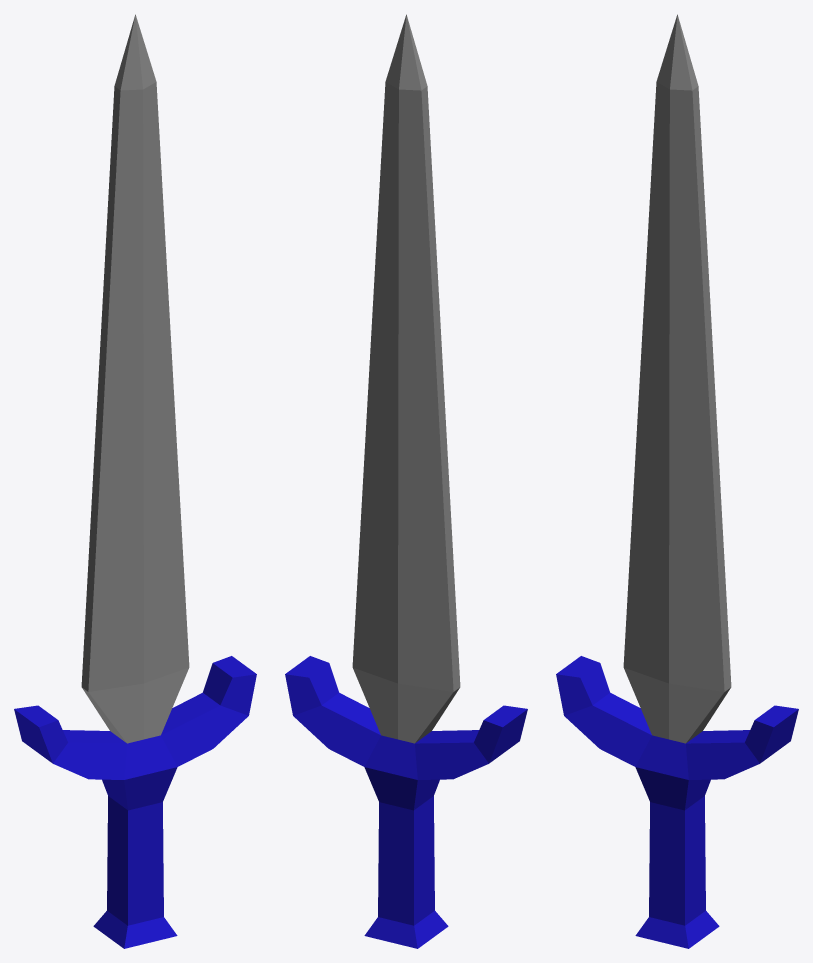
Rendered from Sword.fbx.
The picture shows the model from 3 angles, left to right: view 1: azimuth 30°, elevation 25°; view 2: azimuth 150°, elevation 25°; view 3: azimuth 330°, elevation 25°; orthographic projection.
Parts seen in each view (by area): view 1: Cube; view 2: Cube; view 3: Cube.
Boxes of the visible parts, box(x1,y1,x2,y2) form: Cube: box(14, 14, 256, 948); Cube: box(285, 14, 527, 948); Cube: box(556, 14, 798, 948).
Size of the model in its own units: 28.52 by 115 by 7.
